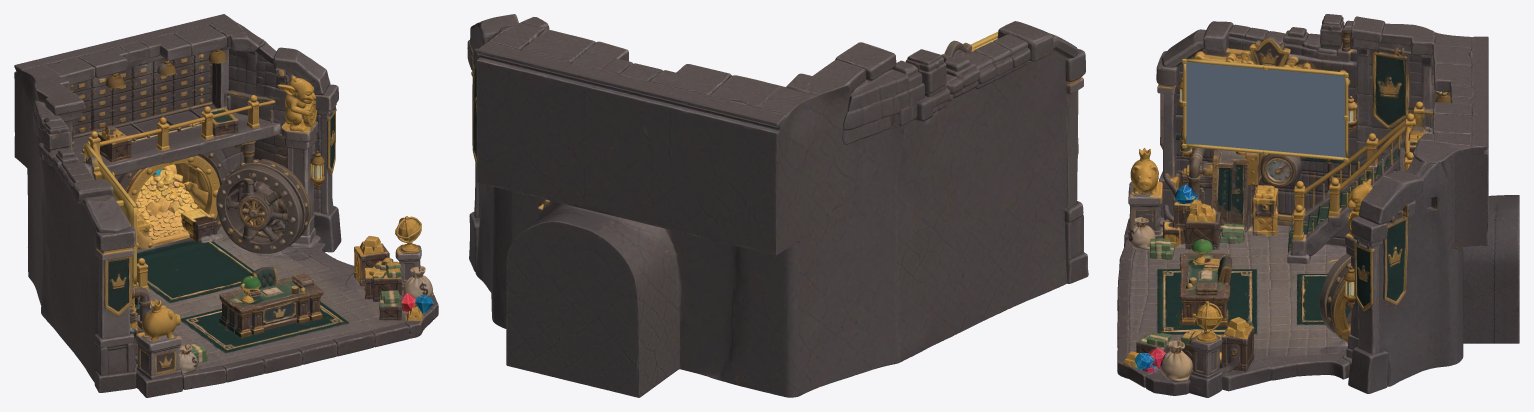
The model's file is GoblinBank_A_screen.v2.delitL2.glb.
3 views of the same model, side by side, from view 1: azimuth 30°, elevation 25°; view 2: azimuth 150°, elevation 25°; view 3: azimuth 270°, elevation 25° (orthographic). The views are drawn at different scales.
Visible parts, largest first — view 1: goblin_bank, kfb_screen_frame; view 2: goblin_bank; view 3: goblin_bank, kfb_screen_slot, kfb_screen_frame.
Part boxes in pixels (x1,y1,x2,y2): goblin_bank: (14,14,438,397); kfb_screen_frame: (84,141,138,287); goblin_bank: (467,14,1088,397); goblin_bank: (1117,14,1519,397); kfb_screen_slot: (1186,62,1345,157); kfb_screen_frame: (1182,58,1348,162).
Bounding box in the file's own units: 1.9 × 1.12 × 1.79.
Materials: 3 (1 with a texture image).
